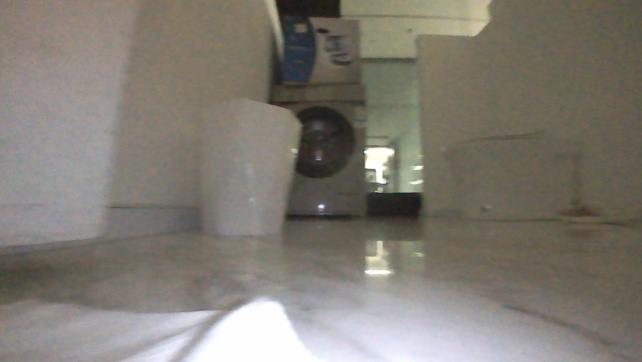shoe: (552, 200, 630, 226)
socks: (1, 289, 640, 360)
toilet: (439, 124, 581, 223)
trash_can: (196, 95, 304, 237)
washing_machine: (269, 80, 370, 219)
